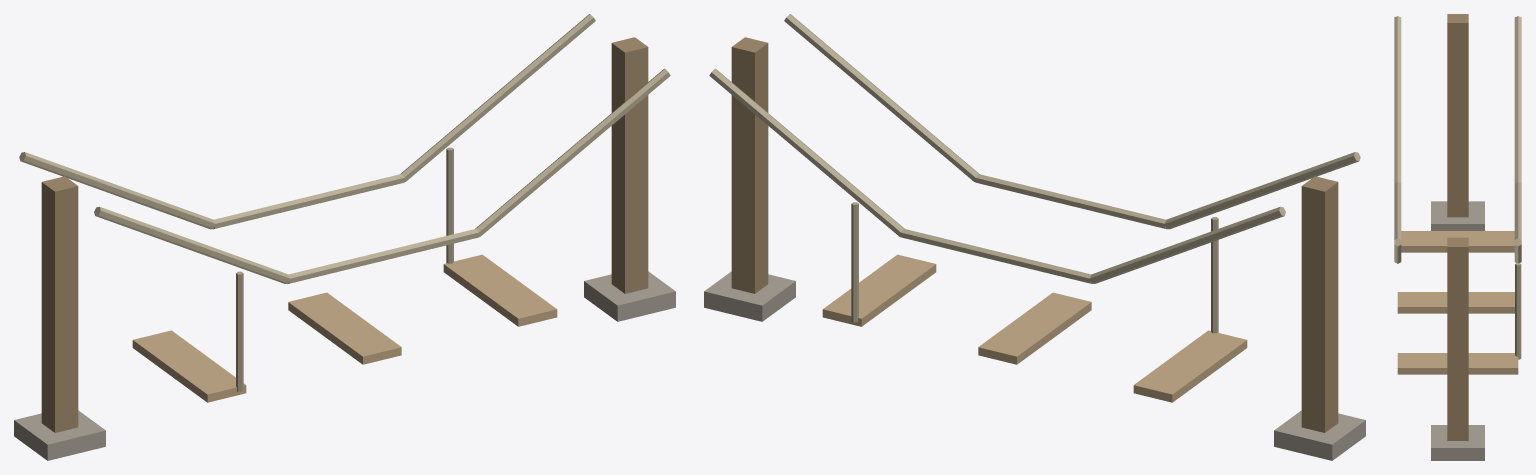
The model's file is 40-Infraestructura_puente_cuerda_colgante.glb.
The picture shows the model from 3 angles, left to right: view 1: azimuth 30°, elevation 25°; view 2: azimuth 150°, elevation 25°; view 3: azimuth 270°, elevation 25°; orthographic projection. The views are drawn at different scales.
Visible parts, largest first — view 1: SM_Puente_M_Puente_Madera_Osc, SM_Puente_M_Puente_Cuerda, SM_Puente_M_Puente_Madera, SM_Puente_M_Puente_Piedra; view 2: SM_Puente_M_Puente_Madera_Osc, SM_Puente_M_Puente_Cuerda, SM_Puente_M_Puente_Madera, SM_Puente_M_Puente_Piedra; view 3: SM_Puente_M_Puente_Madera_Osc, SM_Puente_M_Puente_Madera, SM_Puente_M_Puente_Cuerda, SM_Puente_M_Puente_Piedra.
Part boxes in pixels (x1,y1,x2,y2): SM_Puente_M_Puente_Madera_Osc: (41,37,648,432); SM_Puente_M_Puente_Cuerda: (19,14,670,391); SM_Puente_M_Puente_Madera: (132,254,557,402); SM_Puente_M_Puente_Piedra: (14,271,675,460); SM_Puente_M_Puente_Madera_Osc: (731,37,1338,432); SM_Puente_M_Puente_Cuerda: (709,14,1360,333); SM_Puente_M_Puente_Madera: (822,254,1247,402); SM_Puente_M_Puente_Piedra: (704,271,1365,460); SM_Puente_M_Puente_Madera_Osc: (1447,14,1468,440); SM_Puente_M_Puente_Madera: (1397,231,1518,374); SM_Puente_M_Puente_Cuerda: (1394,16,1521,359); SM_Puente_M_Puente_Piedra: (1431,201,1484,460).
Bounding box in the file's own units: 4.85 × 1.93 × 1.06.
